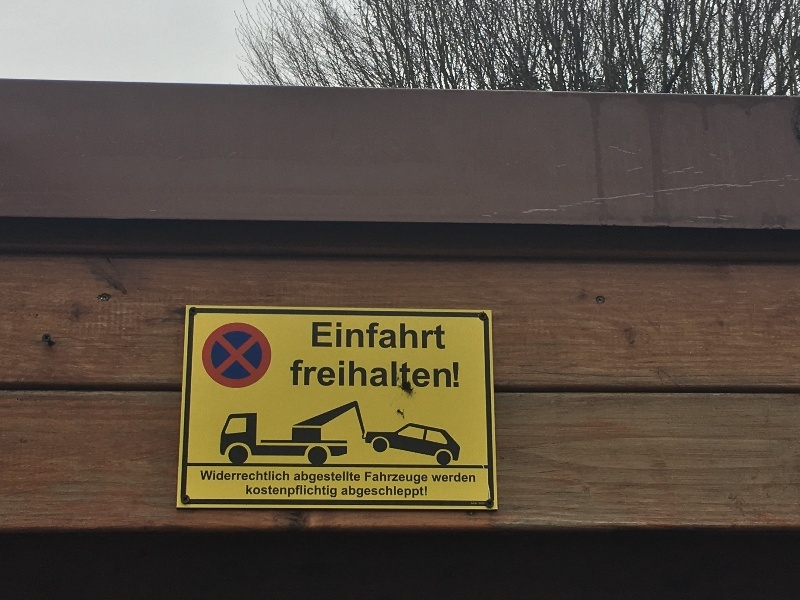text: (321, 322, 336, 350), (337, 322, 352, 350), (353, 322, 368, 350), (369, 322, 384, 350), (385, 322, 400, 350), (401, 322, 416, 350), (417, 322, 432, 350), (305, 360, 320, 388), (321, 360, 336, 388), (337, 360, 352, 388), (353, 360, 368, 388), (369, 360, 384, 388), (385, 360, 400, 388), (401, 360, 416, 388), (417, 360, 432, 388), (433, 360, 448, 388), (291, 360, 304, 388), (433, 322, 445, 350), (449, 360, 459, 388), (321, 485, 337, 498), (313, 322, 320, 350), (257, 485, 272, 498), (273, 485, 288, 498), (289, 485, 304, 498), (305, 485, 320, 498), (353, 486, 368, 499), (369, 486, 384, 499), (385, 486, 400, 499), (401, 486, 416, 499), (305, 472, 320, 484), (321, 472, 336, 484), (337, 472, 352, 484), (369, 472, 384, 484), (385, 472, 400, 484), (401, 472, 416, 484), (273, 471, 289, 481), (209, 471, 224, 481), (225, 471, 240, 481), (241, 471, 256, 481), (257, 471, 272, 481), (433, 473, 448, 482), (449, 473, 464, 482), (417, 472, 428, 484), (342, 486, 352, 499), (417, 486, 427, 499), (294, 472, 304, 484), (247, 485, 256, 498), (465, 473, 476, 482), (353, 472, 360, 484), (200, 471, 208, 481), (366, 472, 368, 484), (431, 473, 432, 482)
